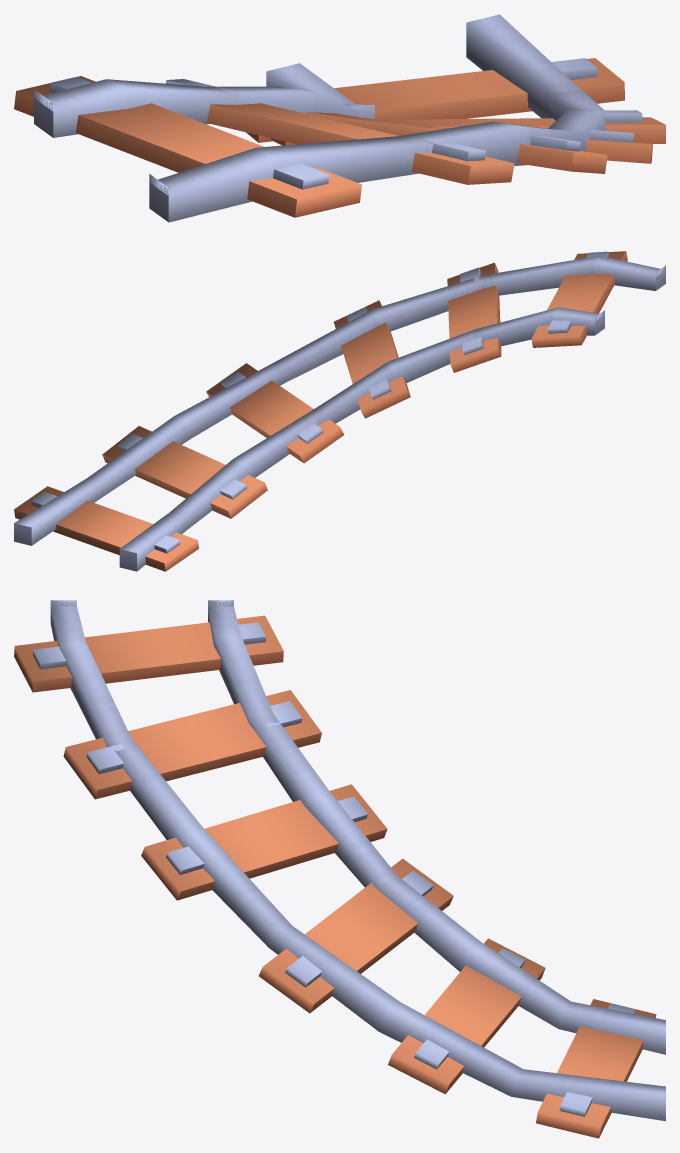
The model's file is kenney-train-railroad-damaged-corner-small-ramp.glb.
The picture shows the model from 3 angles, top to bottom: view 1: azimuth 30°, elevation 25°; view 2: azimuth 150°, elevation 25°; view 3: azimuth 270°, elevation 25°; orthographic projection. The views are drawn at different scales.
Parts seen in each view (by area): view 1: railroad-damaged-corner-small-ramp; view 2: railroad-damaged-corner-small-ramp; view 3: railroad-damaged-corner-small-ramp.
Boxes of the visible parts, box(x1,y1,x2,y2) form: railroad-damaged-corner-small-ramp: box(14, 14, 665, 222); railroad-damaged-corner-small-ramp: box(14, 251, 665, 571); railroad-damaged-corner-small-ramp: box(14, 600, 665, 1138).
Bounding box in the file's own units: 2.49 × 1.11 × 2.49.
Materials: 1 (1 with a texture image).
